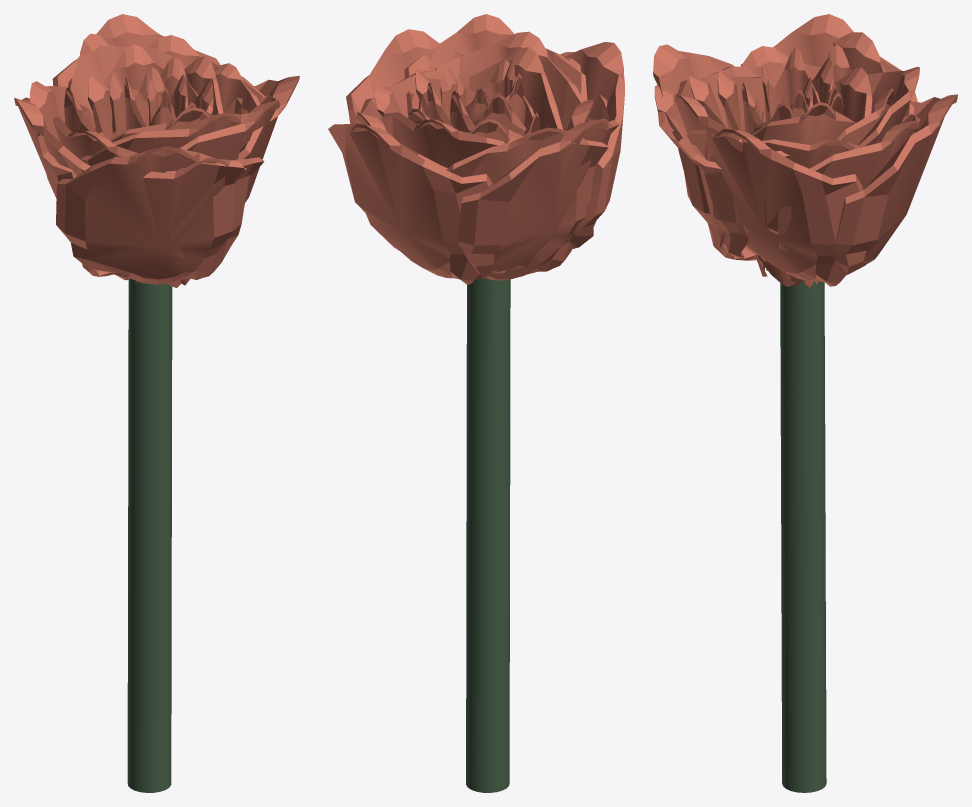
The model's file is peony.obj.
The picture shows the model from 3 angles, left to right: view 1: azimuth 30°, elevation 25°; view 2: azimuth 150°, elevation 25°; view 3: azimuth 270°, elevation 25°; orthographic projection.
Parts seen in each view (by area): view 1: peony stem4, petals peony polySurface27, petals peony polySurface45, petals peony polySurface42, petals peony polySurface26, petals peony polySurface44, petals peony polySurface28, polySurface25 petals peony, petals peony polySurface35, petals peony polySurface29, petals peony polySurface32, petals peony polySurface46 (+10 smaller); view 2: peony stem4, polySurface25 petals peony, petals peony polySurface28, petals peony polySurface35, petals peony polySurface27, petals peony polySurface44, petals peony polySurface42, petals peony polySurface26, petals peony polySurface29, petals peony polySurface33, petals peony polySurface43, petals peony polySurface47 (+7 smaller); view 3: peony stem4, petals peony polySurface29, polySurface25 petals peony, petals peony polySurface27, petals peony polySurface30, petals peony polySurface45, petals peony polySurface31, petals peony polySurface28, petals peony polySurface42, petals peony polySurface33, petals peony polySurface26, petals peony polySurface34 (+11 smaller).
Part boxes in pixels (left/top/right/bottom): peony stem4: left=127, top=279, right=172, bottom=792; petals peony polySurface27: left=56, top=146, right=250, bottom=284; petals peony polySurface45: left=137, top=157, right=264, bottom=275; petals peony polySurface42: left=68, top=33, right=185, bottom=131; petals peony polySurface26: left=180, top=95, right=280, bottom=160; petals peony polySurface44: left=81, top=108, right=248, bottom=165; petals peony polySurface28: left=14, top=97, right=130, bottom=280; polySurface25 petals peony: left=52, top=14, right=220, bottom=86; petals peony polySurface35: left=29, top=81, right=113, bottom=276; petals peony polySurface29: left=237, top=76, right=299, bottom=202; petals peony polySurface32: left=53, top=117, right=138, bottom=159; petals peony polySurface46: left=89, top=44, right=163, bottom=105; peony stem4: left=466, top=278, right=510, bottom=792; polySurface25 petals peony: left=328, top=123, right=492, bottom=284; petals peony polySurface28: left=457, top=117, right=619, bottom=275; petals peony polySurface35: left=446, top=127, right=608, bottom=280; petals peony polySurface27: left=564, top=42, right=624, bottom=248; petals peony polySurface44: left=418, top=31, right=583, bottom=130; petals peony polySurface42: left=381, top=112, right=515, bottom=168; petals peony polySurface26: left=404, top=14, right=587, bottom=114; petals peony polySurface29: left=346, top=29, right=463, bottom=124; petals peony polySurface33: left=462, top=47, right=562, bottom=129; petals peony polySurface43: left=375, top=70, right=441, bottom=117; petals peony polySurface47: left=460, top=92, right=526, bottom=136; peony stem4: left=780, top=279, right=826, bottom=792; petals peony polySurface29: left=686, top=129, right=862, bottom=286; polySurface25 petals peony: left=833, top=94, right=957, bottom=274; petals peony polySurface27: left=653, top=44, right=756, bottom=260; petals peony polySurface30: left=765, top=114, right=920, bottom=252; petals peony polySurface45: left=654, top=85, right=756, bottom=259; petals peony polySurface31: left=751, top=102, right=855, bottom=145; petals peony polySurface28: left=740, top=14, right=917, bottom=102; petals peony polySurface42: left=858, top=67, right=919, bottom=147; petals peony polySurface33: left=717, top=69, right=776, bottom=262; petals peony polySurface26: left=675, top=79, right=789, bottom=160; petals peony polySurface34: left=834, top=67, right=872, bottom=123.
Size of the model in its own units: 1.51 by 4.04 by 1.54.
